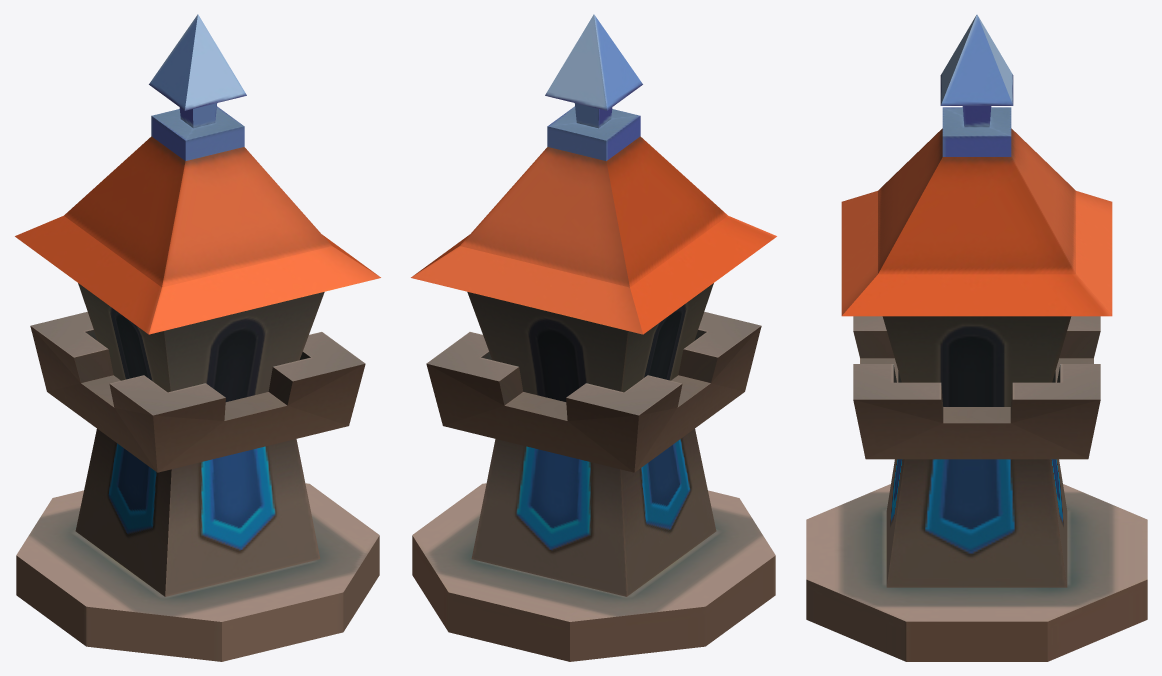
The model's file is IronTower.FBX.
3 views of the same model, side by side, from view 1: azimuth 30°, elevation 25°; view 2: azimuth 150°, elevation 25°; view 3: azimuth 270°, elevation 25° (orthographic).
Parts seen in each view (by area): view 1: IronTower; view 2: IronTower; view 3: IronTower.
Boxes of the visible parts, <box> form: IronTower: <box>15,14,380,661</box>; IronTower: <box>411,14,776,661</box>; IronTower: <box>806,14,1147,661</box>.
Bounding box in the file's own units: 89.55 × 167 × 89.55.
